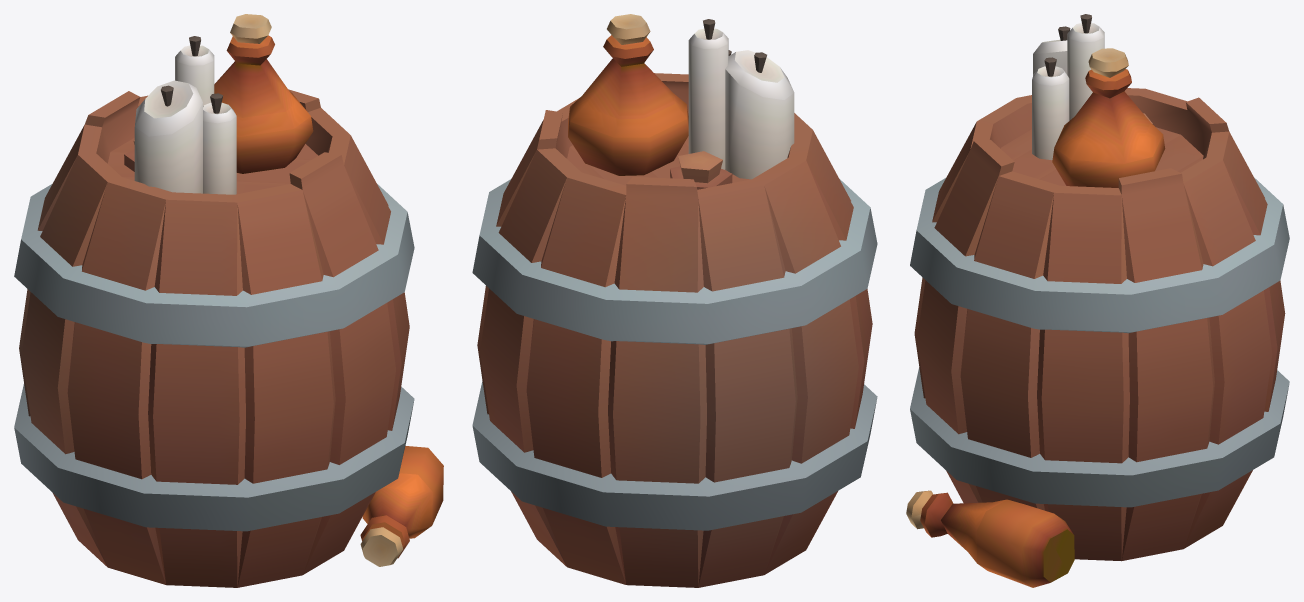
File: kay-barril-grande.gltf
3 views of the same model, side by side, from view 1: azimuth 30°, elevation 25°; view 2: azimuth 150°, elevation 25°; view 3: azimuth 270°, elevation 25° (orthographic). The views are drawn at different scales.
Parts seen in each view (by area): view 1: barrel_large_decorated; view 2: barrel_large_decorated; view 3: barrel_large_decorated.
Boxes of the visible parts, x1,y1,x2,y2 form: barrel_large_decorated: (14,14,443,587); barrel_large_decorated: (472,14,877,587); barrel_large_decorated: (906,14,1289,587).
Size of the model in its own units: 1.26 by 1.66 by 1.21.
1 material, 1 textured.
